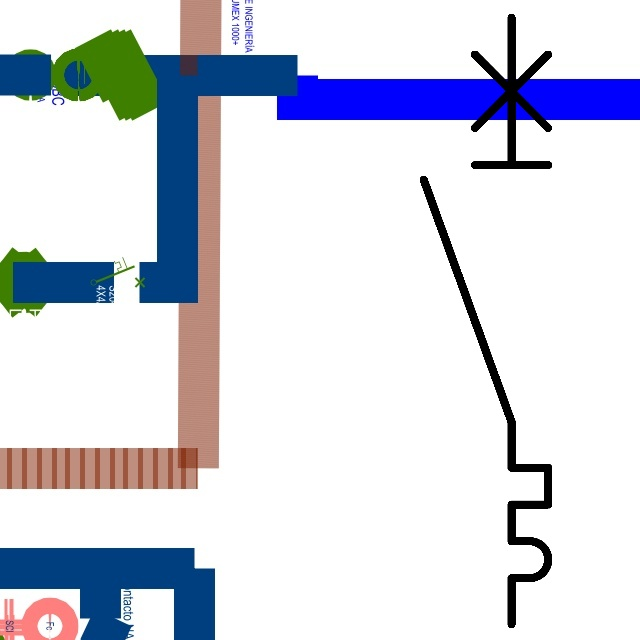interruptor_termomagnetico: (408, 2, 564, 640)
